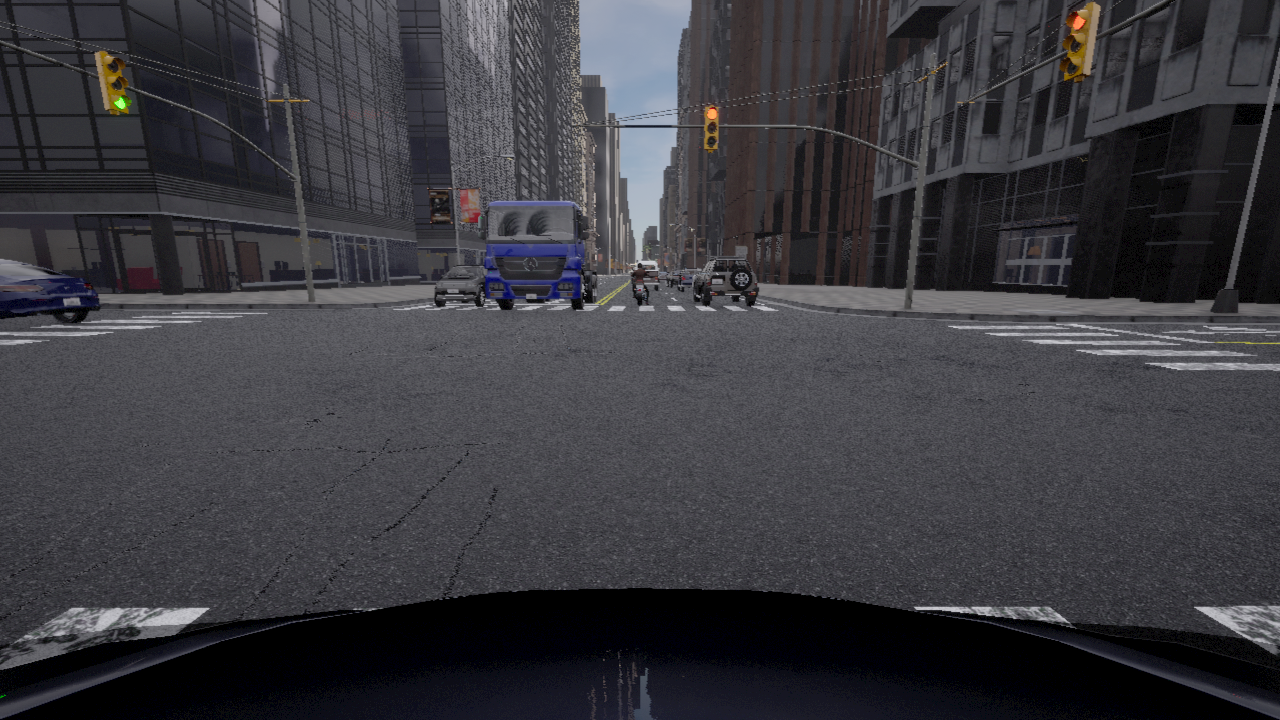cyclist: (0, 588, 1279, 719), (478, 201, 597, 309), (693, 256, 758, 305), (434, 265, 497, 306), (665, 270, 691, 287), (633, 275, 646, 305), (657, 272, 669, 282), (653, 276, 654, 277)
